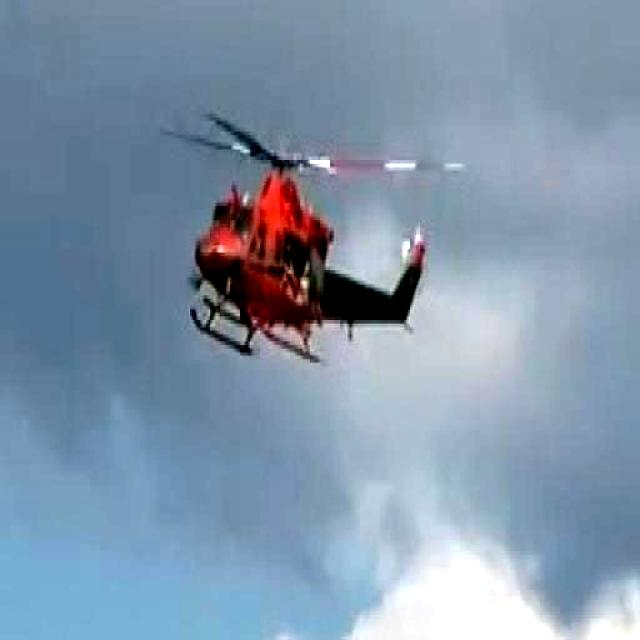drone: (152, 91, 471, 382)
